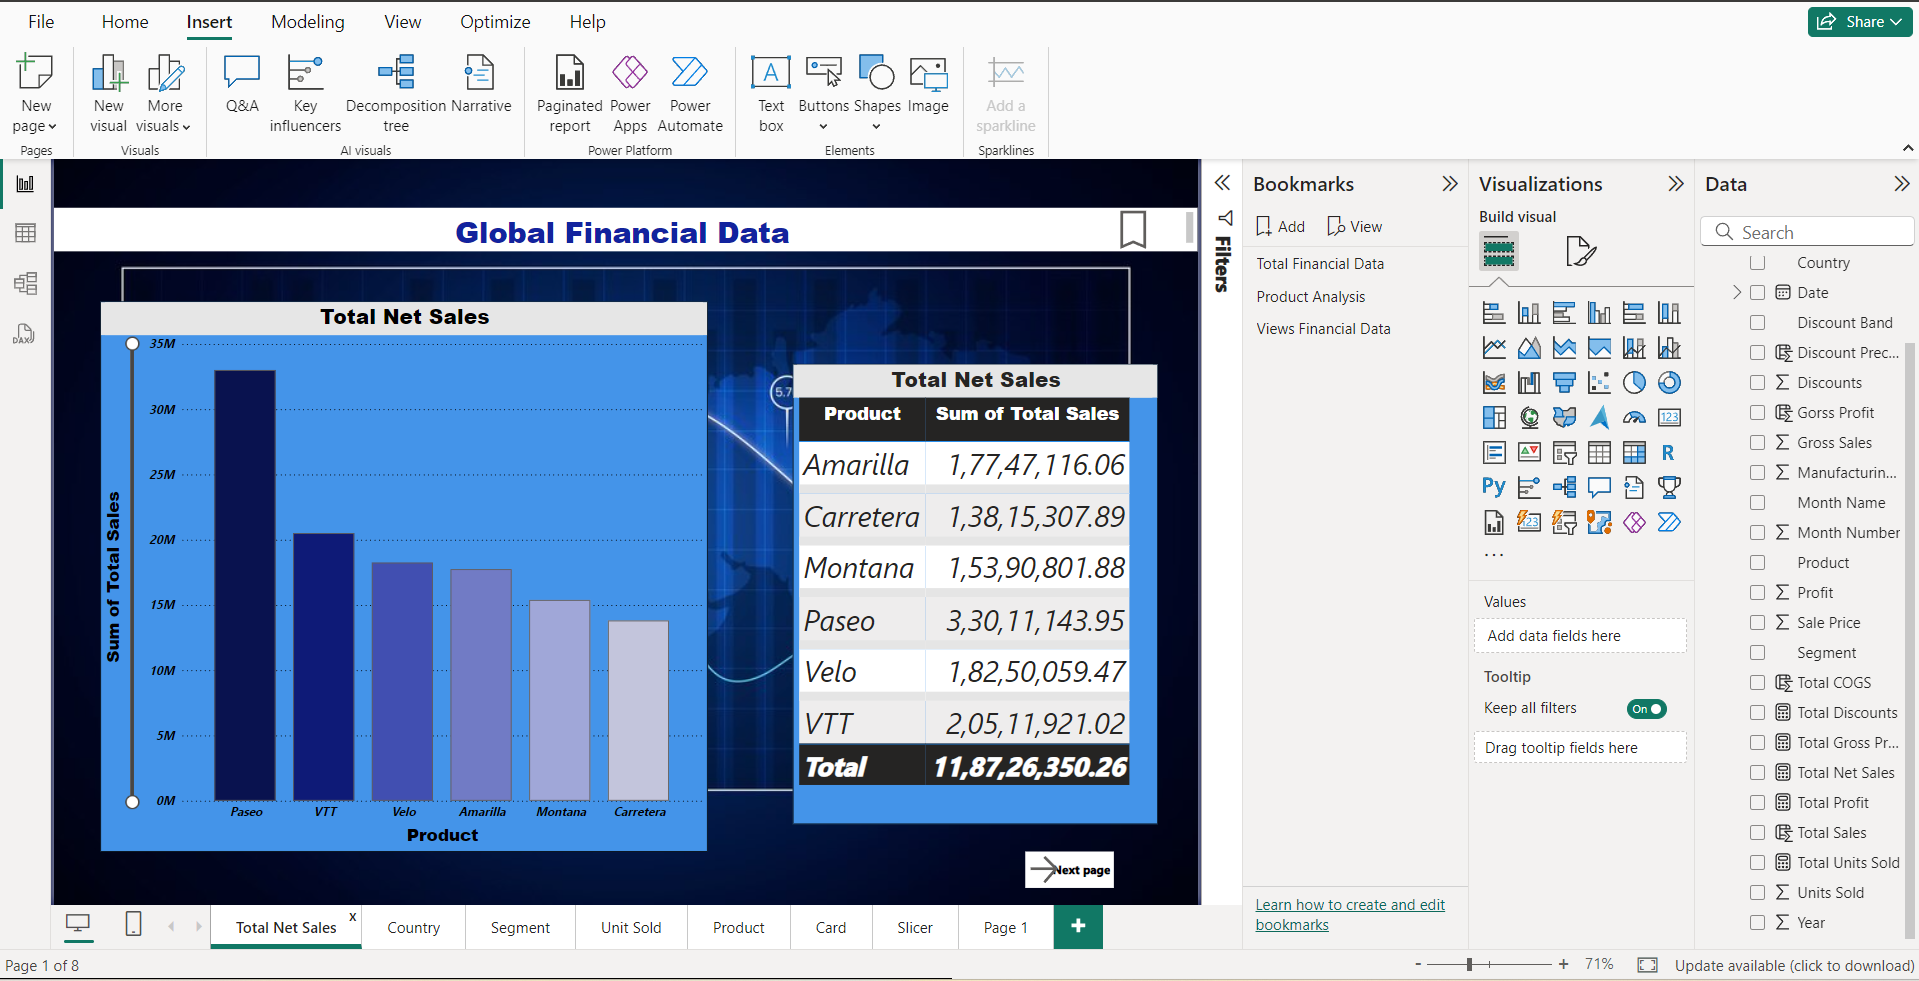

What the dashboard file says about the page in this screenshot:
{"tool":"powerbi","page":{"name":"Total Net Sales","canvas":[1280,835],"ordinal":0},"visuals":[{"type":"textbox","box":[0,54.6,1280.2,49],"z":1},{"type":"columnChart","title":"Total Net Sales","fields":{"Category":["financials.Product"],"Y":["Sum(financials.Total Sales)"]},"box":[51.8,159.5,680,615.6],"z":2},{"type":"tableEx","title":"Total Net Sales ","fields":{"Values":["financials.Product","Sum(financials.Total Sales)"]},"box":[826.9,229.5,408.5,514.9],"z":3},{"type":"actionButton","box":[1087.1,775.1,99.3,40.6],"z":4},{"type":"actionButton","box":[1180.9,51.8,99.3,54.6],"z":5}]}

Visuals, with their boxes on the page's 1280x835 design canvas (x1, y1, x2, y2). These are canvas units, not pixel positions in the 1919x981 screenshot, which may show the page scaled, cropped or inside an application window:
textbox: (x1=0, y1=55, x2=1280, y2=104)
"Total Net Sales" columnChart: (x1=52, y1=160, x2=732, y2=775)
"Total Net Sales " tableEx: (x1=827, y1=230, x2=1235, y2=744)
actionButton: (x1=1087, y1=775, x2=1186, y2=816)
actionButton: (x1=1181, y1=52, x2=1280, y2=106)
